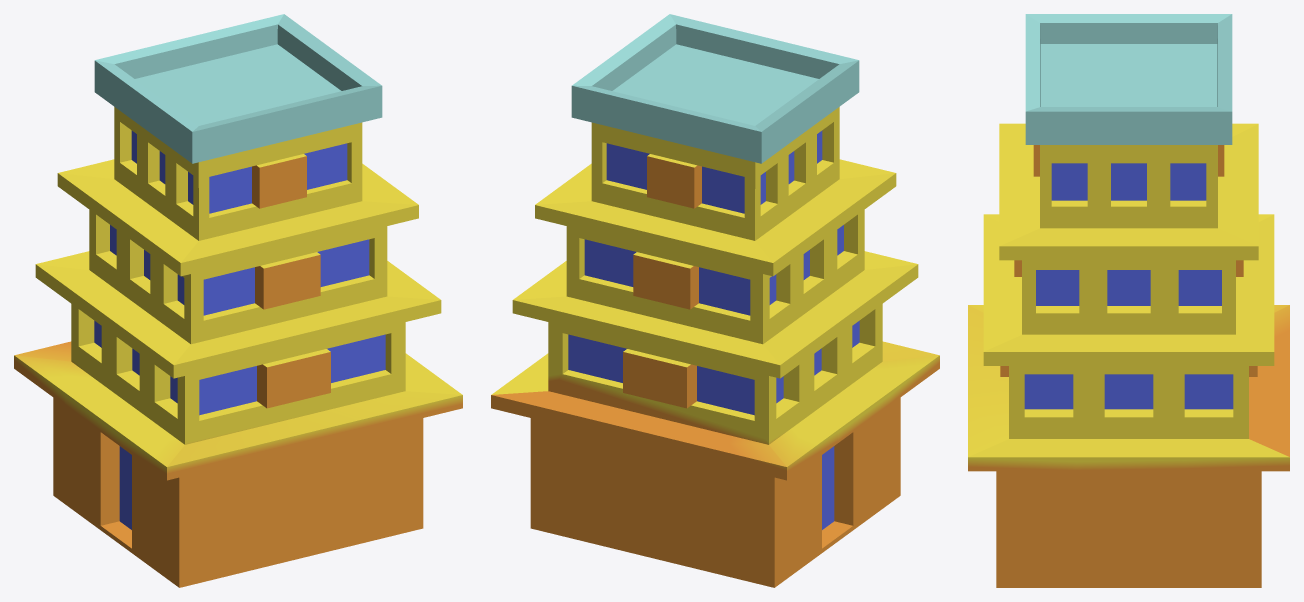
File: house22.fbx
3 renders of one model, left to right at view 1: azimuth 30°, elevation 25°; view 2: azimuth 150°, elevation 25°; view 3: azimuth 270°, elevation 25°, orthographic. The views are drawn at different scales.
Visible parts, largest first — view 1: building.007_LOD0; view 2: building.007_LOD0; view 3: building.007_LOD0.
Boxes of the visible parts, <box> form: building.007_LOD0: <box>14,14,462,587</box>; building.007_LOD0: <box>491,14,939,587</box>; building.007_LOD0: <box>968,14,1289,587</box>.
Size of what is drawn, in the model's own units: 1117 by 1584 by 999.
